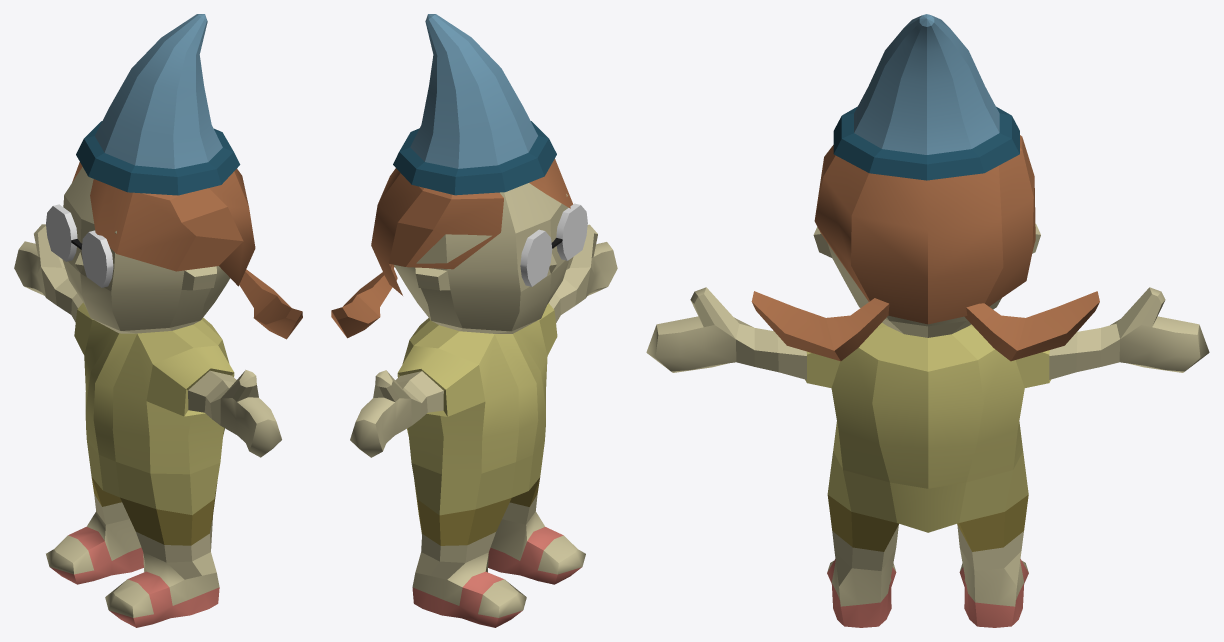
Rendered from LilGirl.fbx.
The picture shows the model from 3 angles, left to right: view 1: azimuth 30°, elevation 25°; view 2: azimuth 150°, elevation 25°; view 3: azimuth 270°, elevation 25°; orthographic projection. The views are drawn at different scales.
Parts seen in each view (by area): view 1: polySurface12, Hat, Hair, polySurface5, Ponytails; view 2: polySurface12, Hat, Hair, polySurface5, Ponytails; view 3: polySurface12, Hair, Hat, Ponytails.
Boxes of the visible parts, x1,y1,x2,y2 form: polySurface12: [14, 167, 281, 627]; Hat: [76, 14, 240, 195]; Hair: [72, 162, 255, 286]; polySurface5: [46, 204, 113, 287]; Ponytails: [239, 269, 302, 339]; polySurface12: [350, 183, 617, 627]; Hat: [393, 14, 556, 195]; Hair: [371, 159, 572, 295]; polySurface5: [520, 203, 587, 286]; Ponytails: [331, 265, 397, 338]; polySurface12: [646, 223, 1209, 627]; Hair: [814, 135, 1035, 324]; Hat: [833, 14, 1019, 180]; Ponytails: [751, 291, 1099, 361].
Bounding box in the file's own units: 1.6 × 4.86 × 3.99.
